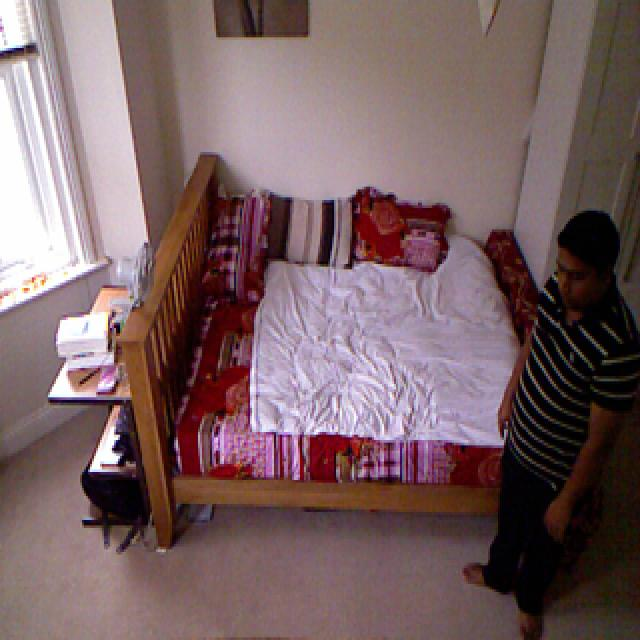standing: (470, 210, 640, 640)
